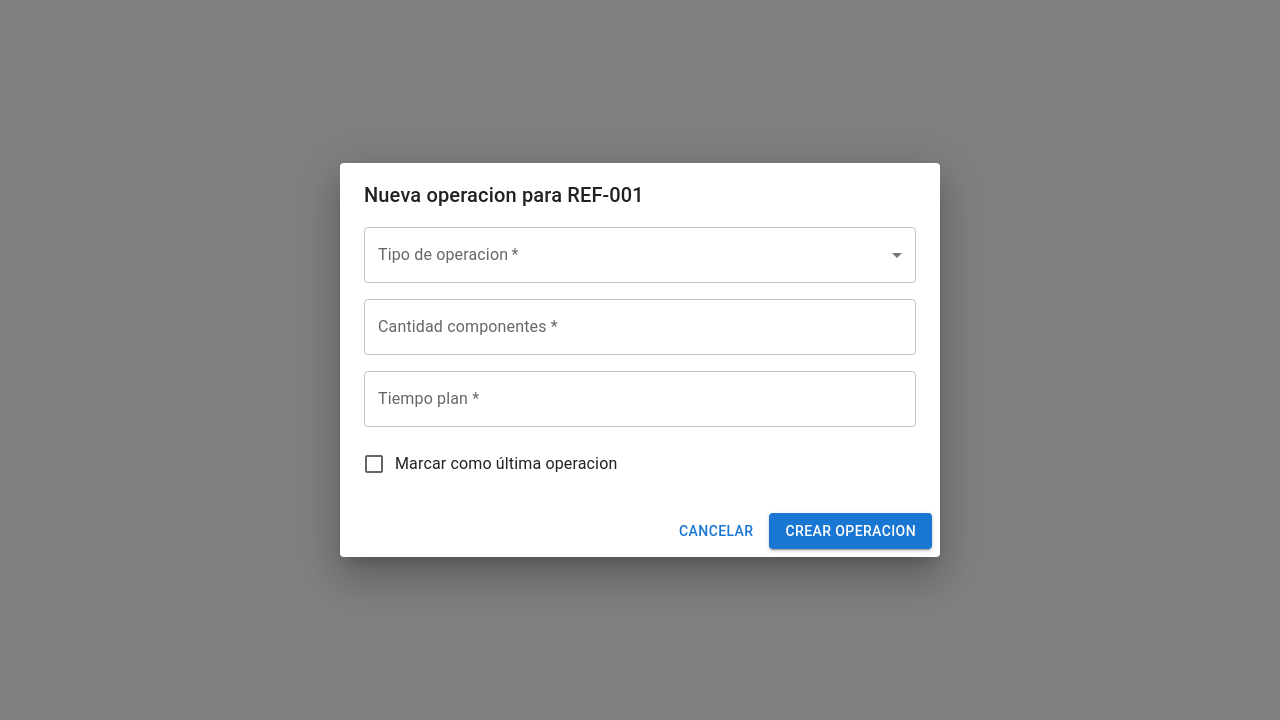
Test: Componente: AdminCreateOperacionDialog › Muestra los tipos de operación en el selector
Click the dropdown: (640, 255) [364, 227, 916, 283]
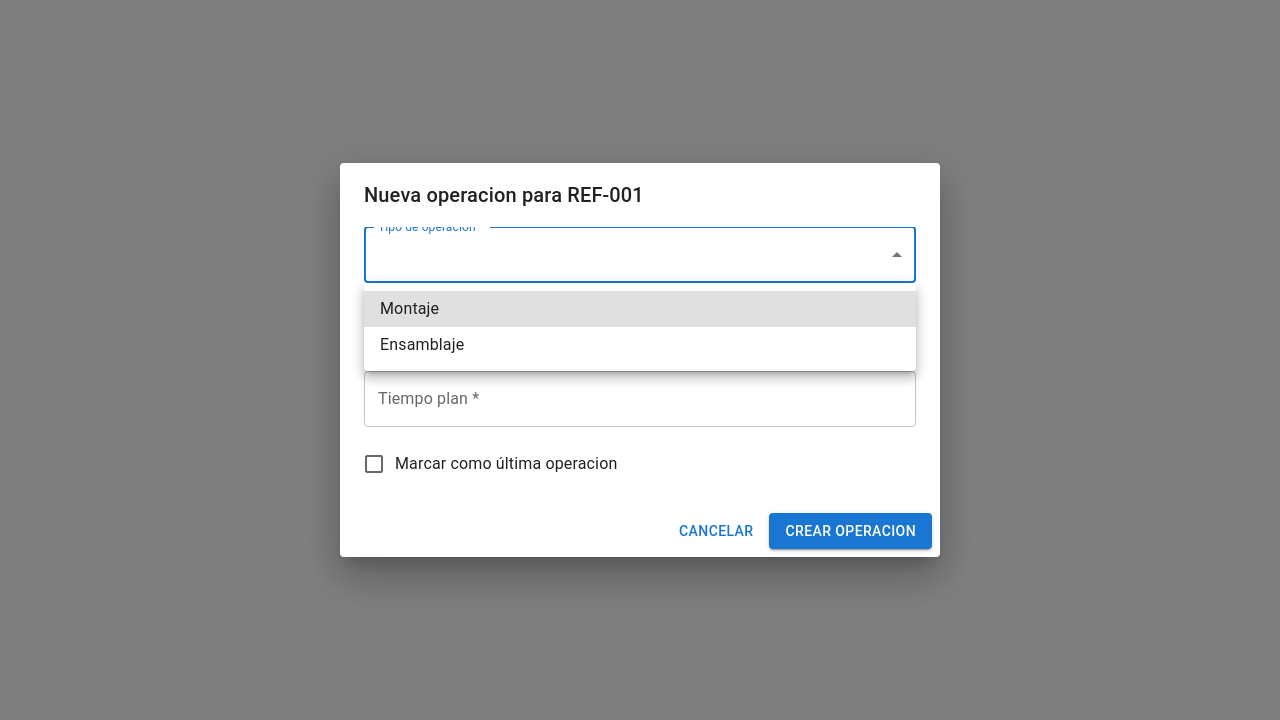
expect the option "Montaje" is shown: met, box [364, 291, 916, 327]
expect the option "Ensamblaje" is shown: met, box [380, 335, 464, 354]
